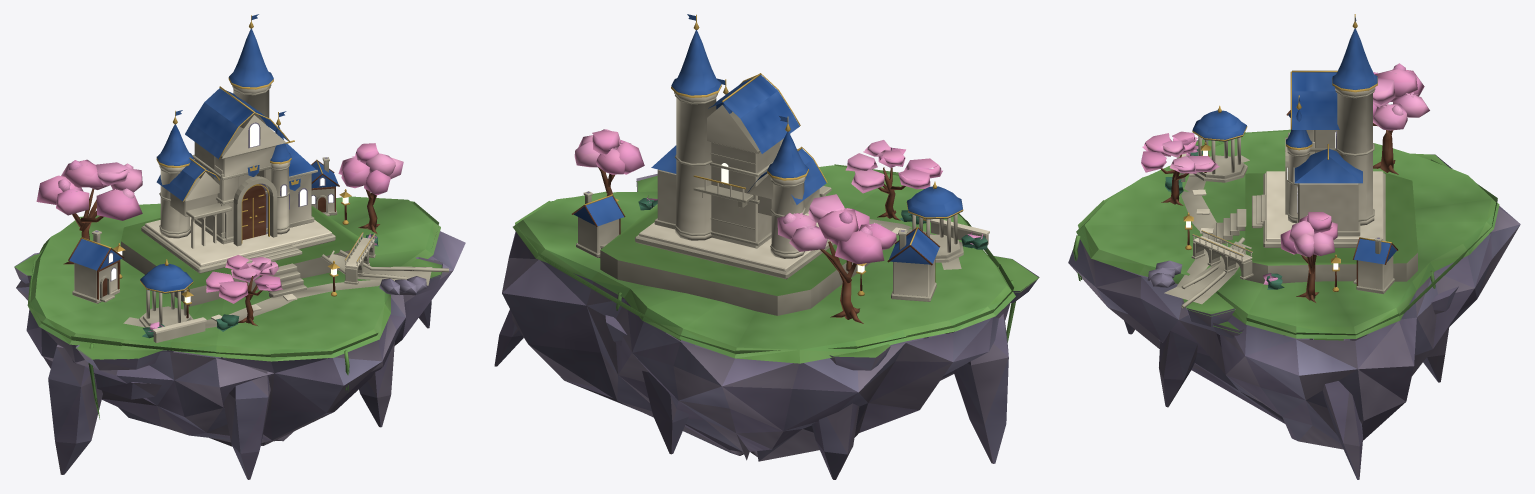
Rendered from royal-island-right-background-v1-low.glb.
3 views of the same model, side by side, from view 1: azimuth 30°, elevation 25°; view 2: azimuth 150°, elevation 25°; view 3: azimuth 270°, elevation 25° (orthographic). The views are drawn at different scales.
Parts seen in each view (by area): view 1: royal-island-right-background-v1; view 2: royal-island-right-background-v1; view 3: royal-island-right-background-v1.
Boxes of the visible parts, <box> form: royal-island-right-background-v1: <box>14,14,465,479</box>; royal-island-right-background-v1: <box>494,14,1039,479</box>; royal-island-right-background-v1: <box>1068,14,1520,479</box>.
Size of the model in its own units: 18.32 by 16.74 by 15.98.
10 materials, 10 textured.
